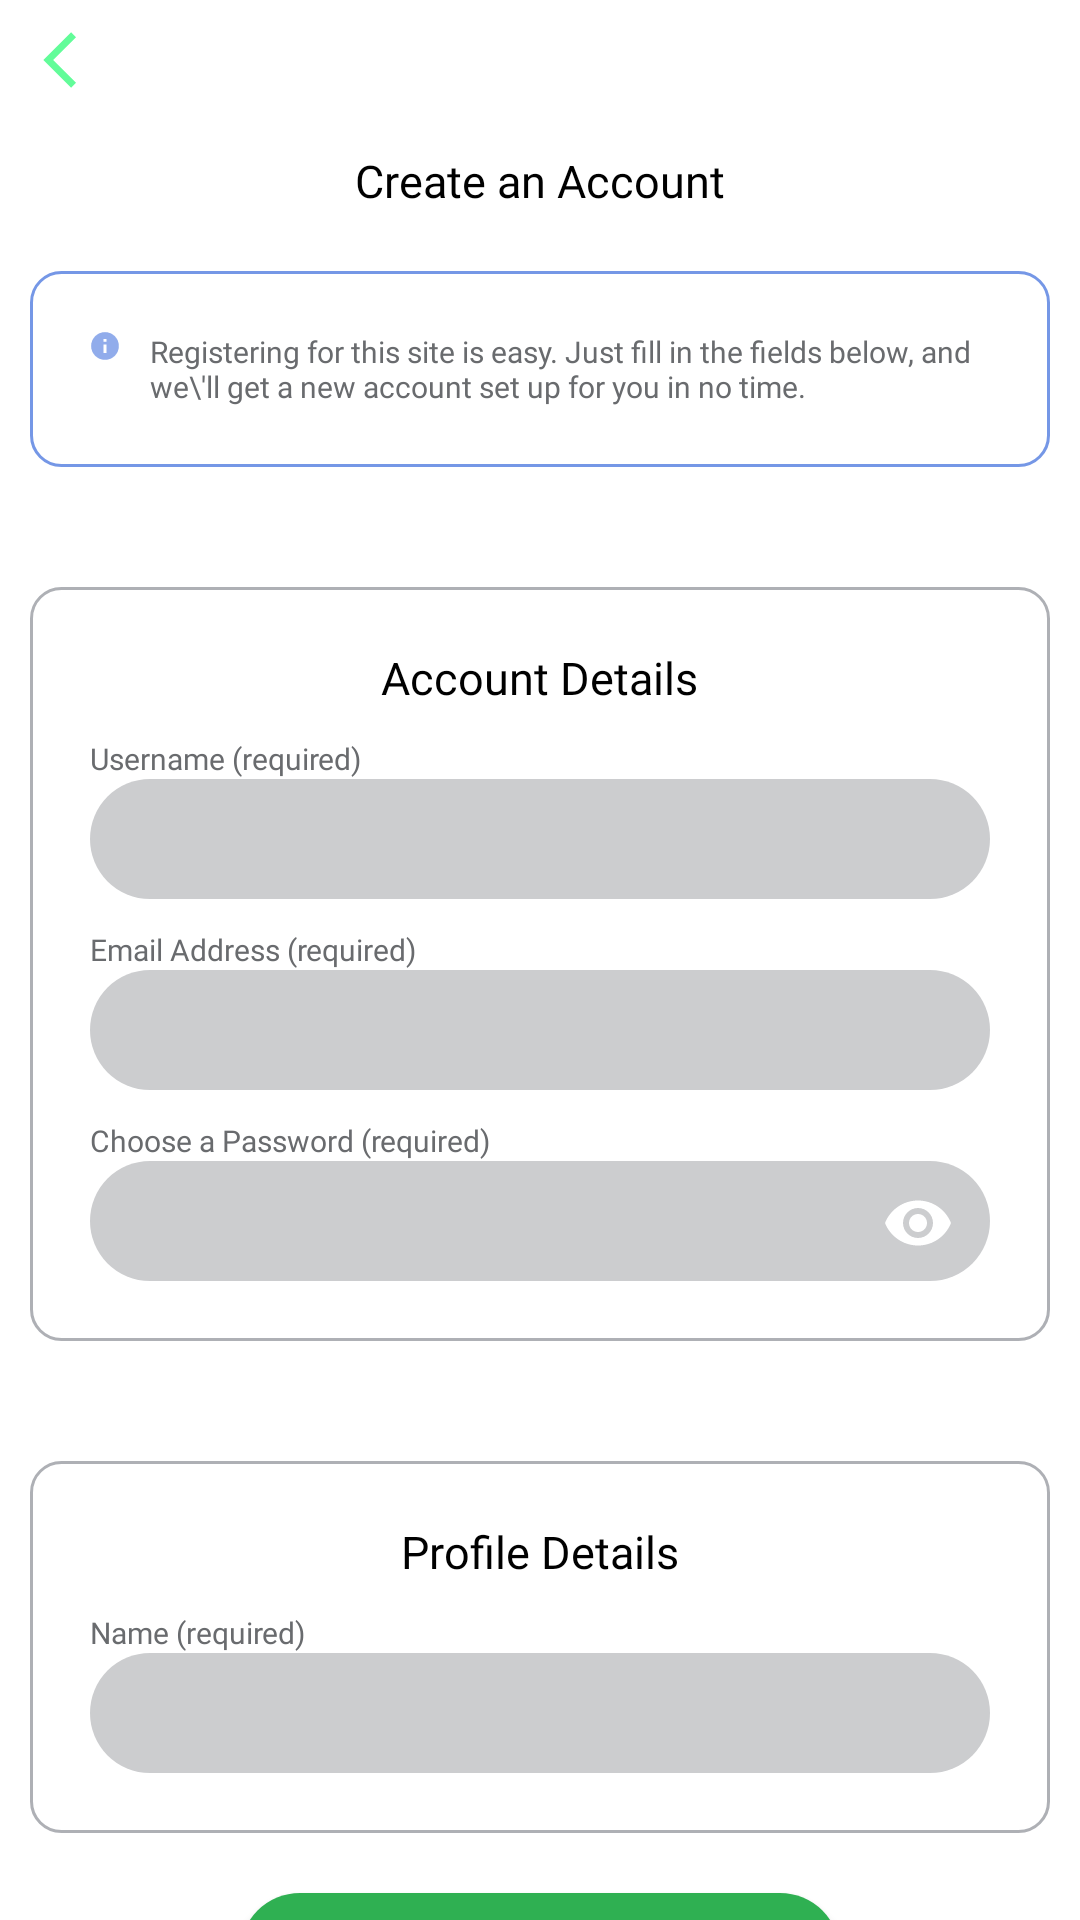

Locate icon controls on the screen. Image size 1080×1920, boxes as (x1, y1, x2, y2).
back: (43, 32, 76, 88)
info: (91, 332, 119, 360)
